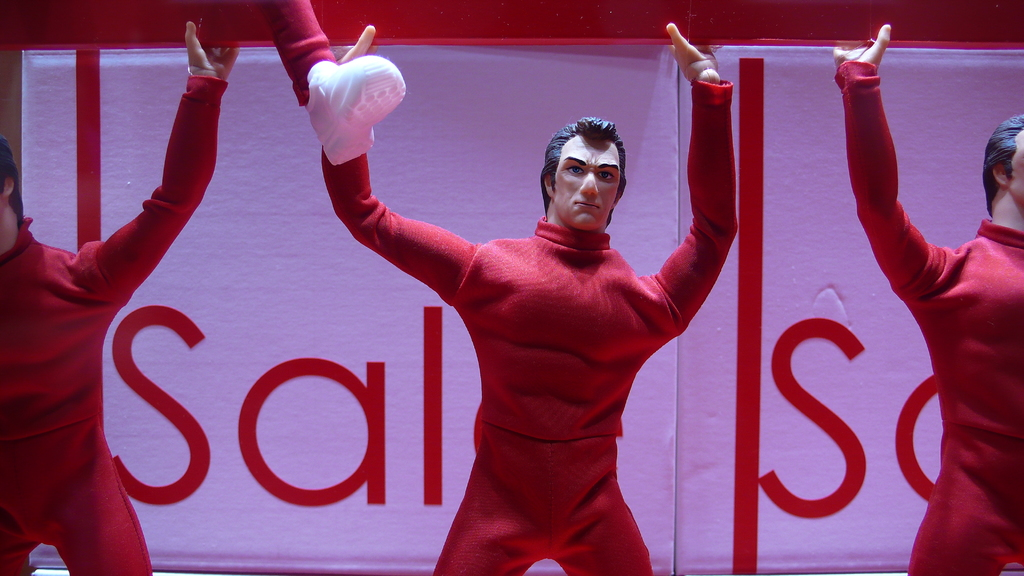Person: (248, 0, 407, 166)
